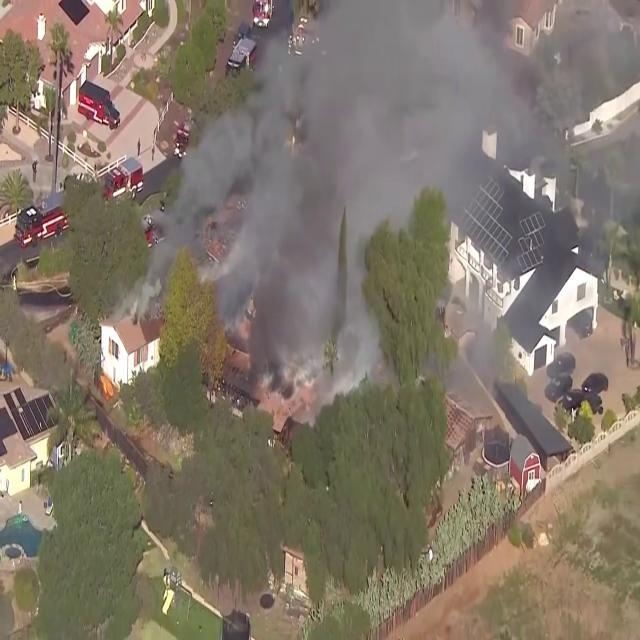Smoke: (161, 0, 407, 388)
